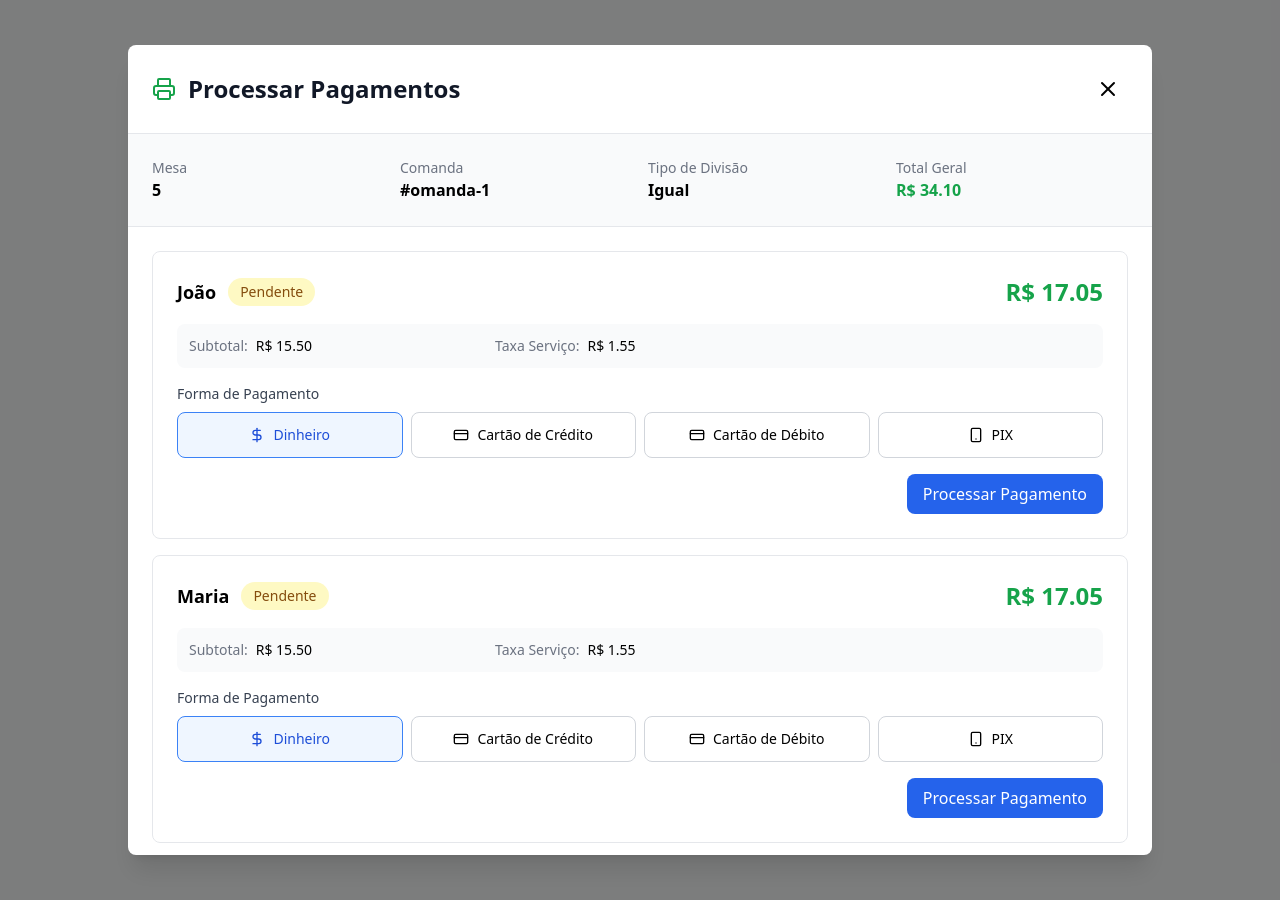
Scenario: ComprovantesMultiplos › deve habilitar botão finalizar quando todos pagamentos estão processados
The width and height of the screenshot is (1280, 900).
What coordinates should you click on to do the following:
click the 1st button "Processar Pagamento"
I would click on:
 (1005, 494)
Its box is [907, 474, 1103, 514].
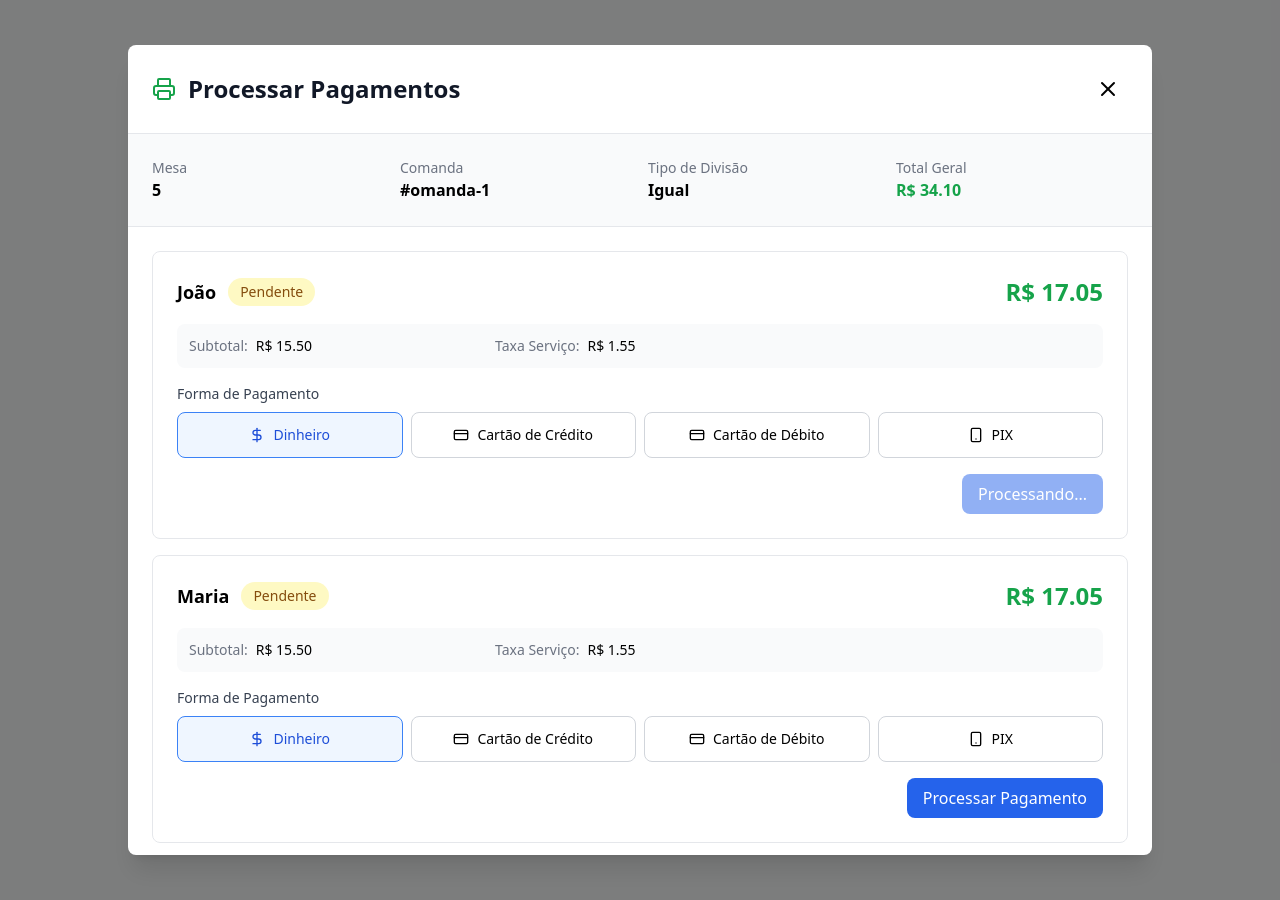
What coordinates should you click on to do the following:
click the button "Processar Pagamento"
I would click on:
 (1005, 798)
Its box is [907, 778, 1103, 818].
(page scrolled)
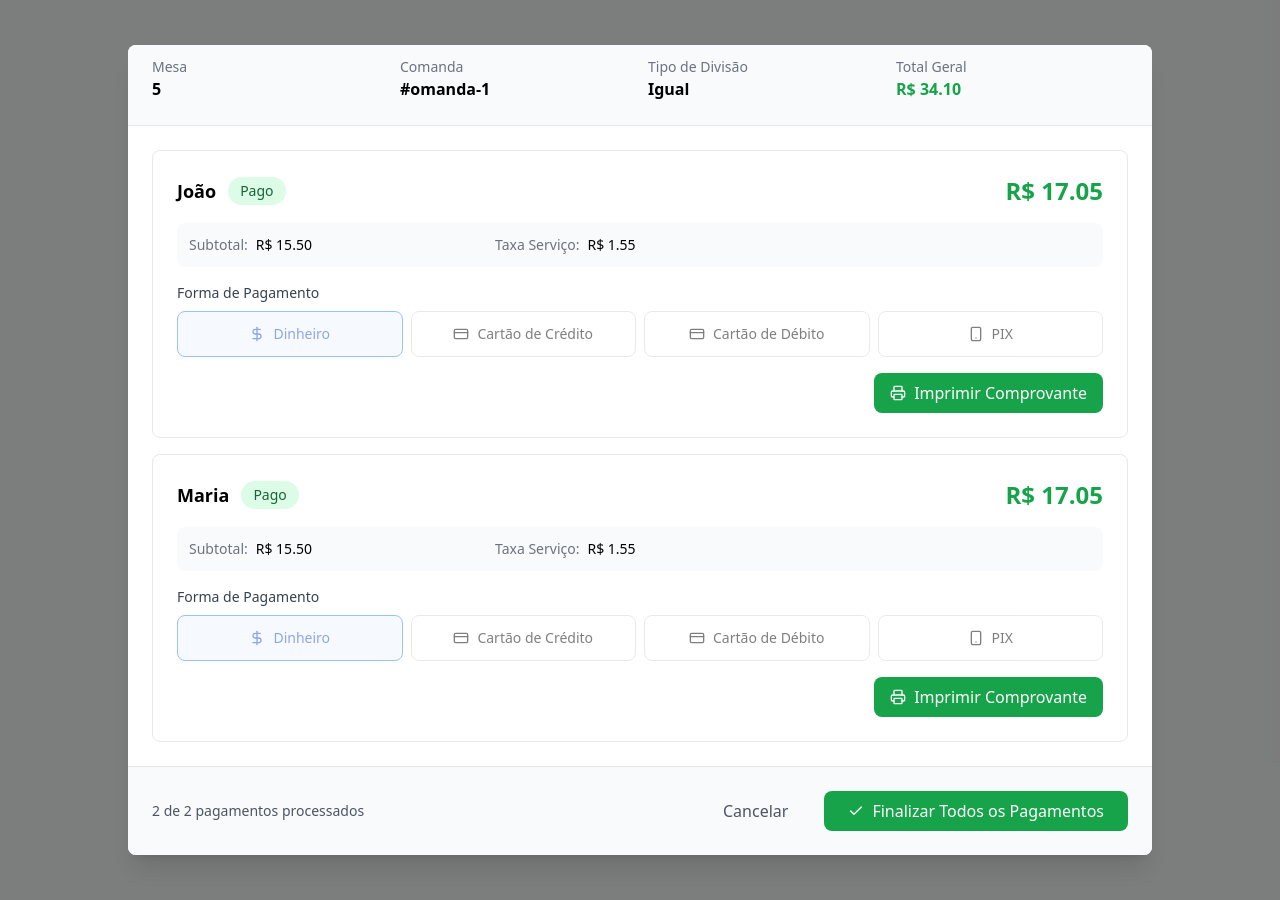
Expected: the text "Pago" is shown 2 times, [228, 177, 286, 205]; [241, 481, 299, 509]
Expected: the text "Finalizar Todos os Pagamentos" is enabled, [872, 799, 1104, 823]
